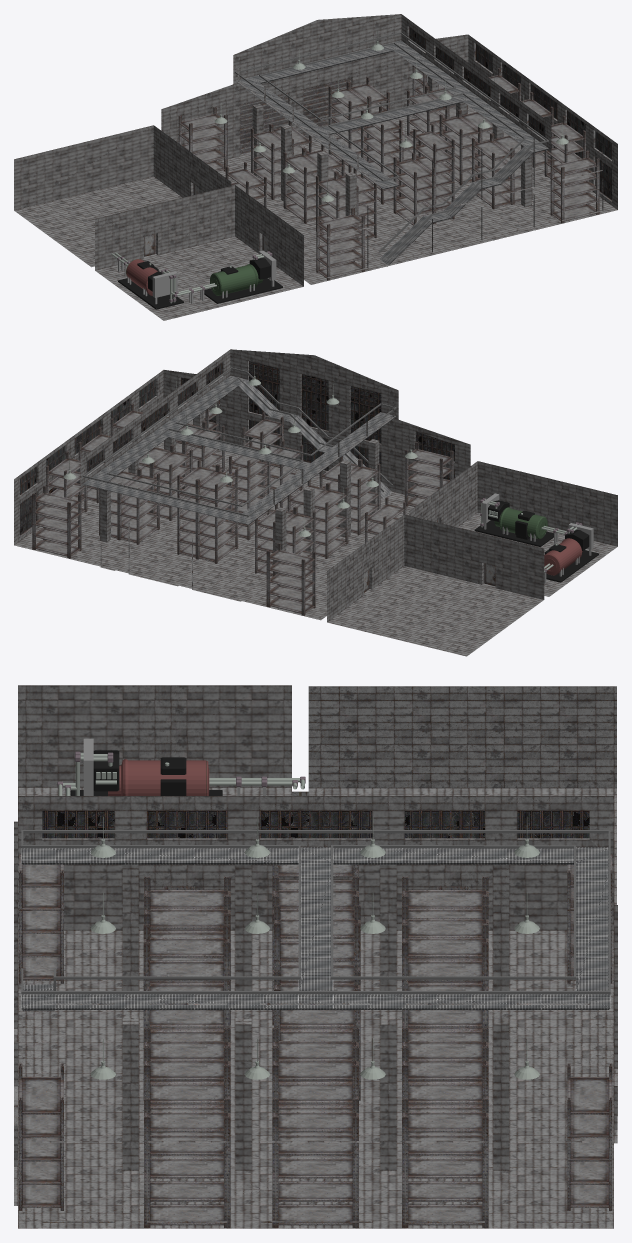
File: Ed Suckx.glb
3 renders of one model, top to bottom at view 1: azimuth 30°, elevation 25°; view 2: azimuth 150°, elevation 25°; view 3: azimuth 270°, elevation 25°, orthographic. The views are drawn at different scales.
Visible parts, largest first — view 1: Warehouse-col, Grate Staircase-col, Shelving_Unit_Small-col.001, Shelving_Unit_Small-col.002, Generator-col, Shelving_Unit_Small-col, Ballistraide-col, Shelving_Unit_Base_Small-col.003, Shelving_Unit_Base_Small-col.005, Shelving_Unit_Tall-col, Shelving_Unit_Base_Tall-col.002, Shelving_Unit_Base_Tall-col.001 (+4 smaller); view 2: Warehouse-col, Grate Staircase-col, Shelving_Unit_Small-col, Shelving_Unit_Small-col.001, Generator-col, Shelving_Unit_Tall-col, Shelving_Unit_Small-col.002, Ballistraide-col, Shelving_Unit_Base_Small-col.004, Shelving_Unit_Base_Small-col, Shelving_Unit_Base_Small-col.005, Shelving_Unit_Base_Tall-col.001 (+3 smaller); view 3: Warehouse-col, Grate Staircase-col, Shelving_Unit_Small-col.002, Shelving_Unit_Small-col.001, Shelving_Unit_Small-col, Ballistraide-col, Shelving_Unit_Tall-col, Shelving_Unit_Base_Tall-col.002, Generator-col, Shelving_Unit_Base_Small-col, Shelving_Unit_Base_Small-col.003, Shelving_Unit_Base_Small-col.005 (+4 smaller).
Part boxes in pixels (box(x1,y1,x2,y2)): Warehouse-col: box(14, 14, 617, 320); Grate Staircase-col: box(235, 40, 548, 266); Shelving_Unit_Small-col.001: box(225, 92, 553, 223); Shelving_Unit_Small-col.002: box(316, 115, 585, 240); Generator-col: box(111, 250, 282, 309); Shelving_Unit_Small-col: box(251, 68, 520, 199); Ballistraide-col: box(235, 32, 548, 258); Shelving_Unit_Base_Small-col.003: box(550, 150, 599, 223); Shelving_Unit_Base_Small-col.005: box(316, 207, 365, 280); Shelving_Unit_Tall-col: box(328, 76, 389, 176); Shelving_Unit_Base_Tall-col.002: box(413, 124, 454, 223); Shelving_Unit_Base_Tall-col.001: box(361, 106, 402, 204); Warehouse-col: box(14, 349, 617, 656); Grate Staircase-col: box(83, 375, 396, 524); Shelving_Unit_Small-col: box(46, 451, 315, 576); Shelving_Unit_Small-col.001: box(78, 427, 406, 558); Generator-col: box(474, 493, 598, 583); Shelving_Unit_Tall-col: box(177, 459, 238, 563); Shelving_Unit_Small-col.002: box(110, 403, 380, 535); Ballistraide-col: box(83, 367, 396, 516); Shelving_Unit_Base_Small-col.004: box(266, 543, 315, 615); Shelving_Unit_Base_Small-col: box(32, 486, 81, 558); Shelving_Unit_Base_Small-col.005: box(404, 442, 453, 506); Shelving_Unit_Base_Tall-col.001: box(229, 441, 270, 540); Warehouse-col: box(14, 685, 617, 1228); Grate Staircase-col: box(21, 847, 610, 1011); Shelving_Unit_Small-col.002: box(144, 876, 230, 1227); Shelving_Unit_Small-col.001: box(272, 864, 358, 1227); Shelving_Unit_Small-col: box(402, 876, 488, 1227); Ballistraide-col: box(21, 830, 610, 994); Shelving_Unit_Tall-col: box(402, 905, 488, 1040); Shelving_Unit_Base_Tall-col.002: box(143, 924, 230, 1100); Generator-col: box(57, 738, 305, 795); Shelving_Unit_Base_Small-col: box(567, 1063, 612, 1210); Shelving_Unit_Base_Small-col.003: box(19, 1063, 63, 1210); Shelving_Unit_Base_Small-col.005: box(19, 854, 63, 983).
Bounding box in the file's own units: 81.56 × 20.36 × 47.03.
Materials: 17 (9 with a texture image).
